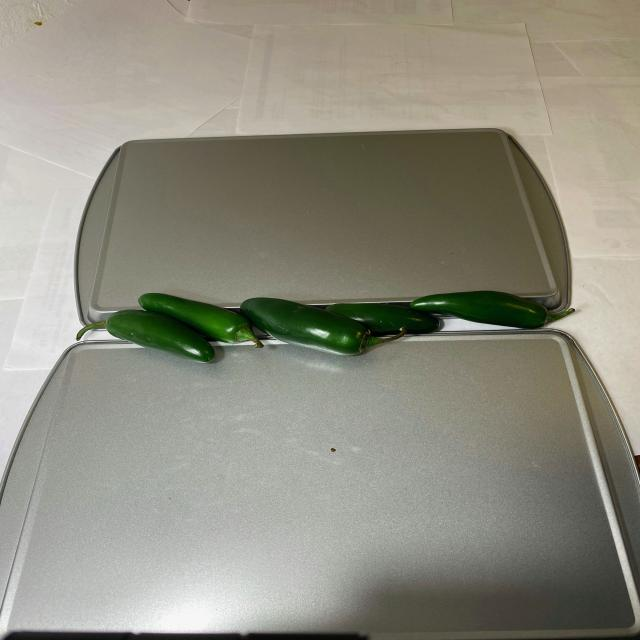chilli: (76, 289, 583, 359)
